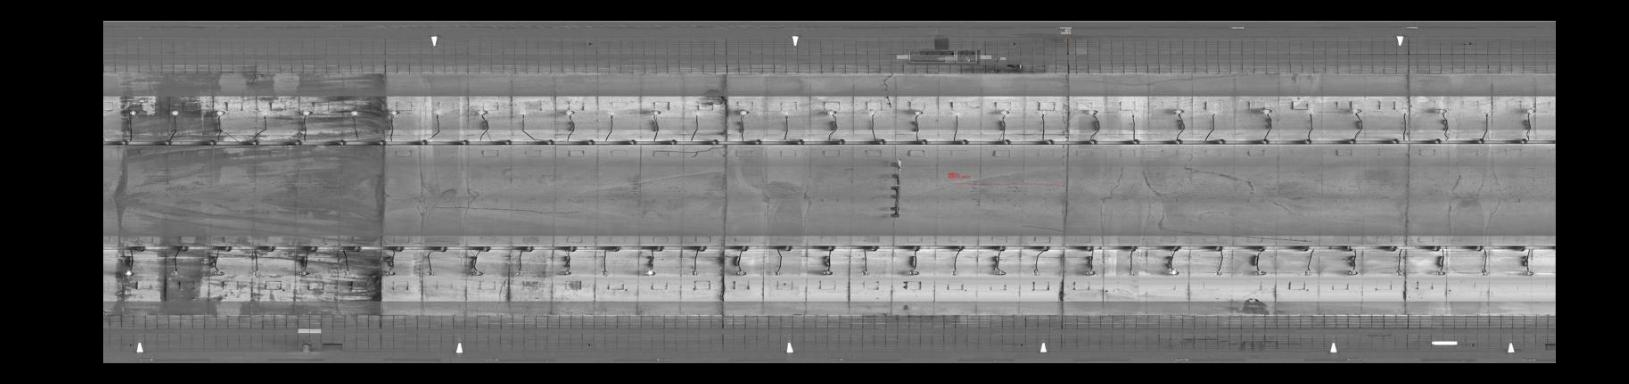light: (986, 266, 1007, 280), (1350, 103, 1367, 118), (212, 104, 230, 119), (121, 266, 140, 279), (379, 266, 399, 279), (1163, 266, 1183, 278), (1171, 104, 1189, 118), (903, 267, 925, 278), (475, 106, 495, 118), (294, 267, 314, 279), (1260, 103, 1277, 117), (944, 266, 961, 280), (1125, 106, 1143, 119), (256, 106, 273, 119), (996, 106, 1017, 117), (165, 267, 187, 277), (1436, 104, 1452, 117), (558, 266, 575, 279), (687, 266, 703, 279), (855, 267, 873, 279), (1087, 106, 1105, 117), (1035, 107, 1053, 118), (298, 107, 317, 118), (560, 105, 576, 118), (1026, 266, 1042, 279), (1304, 105, 1320, 117), (431, 105, 448, 117), (249, 267, 266, 279), (466, 267, 483, 279), (1520, 267, 1537, 279), (735, 107, 754, 117), (209, 266, 226, 277), (1251, 267, 1269, 278), (1398, 106, 1413, 119), (167, 105, 182, 118), (952, 107, 967, 119), (1298, 267, 1316, 277), (689, 106, 705, 117), (1210, 266, 1227, 277), (1433, 267, 1449, 278), (910, 107, 928, 117), (820, 267, 837, 277), (1393, 266, 1407, 279), (1477, 267, 1492, 279), (1208, 106, 1224, 117), (125, 107, 140, 118), (823, 108, 842, 117), (421, 269, 439, 278), (1083, 267, 1099, 277), (1479, 106, 1493, 118), (513, 267, 526, 280), (388, 107, 402, 118), (339, 268, 353, 279), (597, 267, 612, 278), (1345, 267, 1360, 278), (1524, 106, 1538, 117), (517, 107, 532, 117), (642, 268, 657, 278), (735, 267, 749, 277), (604, 109, 619, 118), (770, 270, 785, 279), (1123, 268, 1139, 277), (347, 109, 364, 117), (648, 107, 663, 116), (867, 106, 878, 117), (781, 109, 794, 118)
